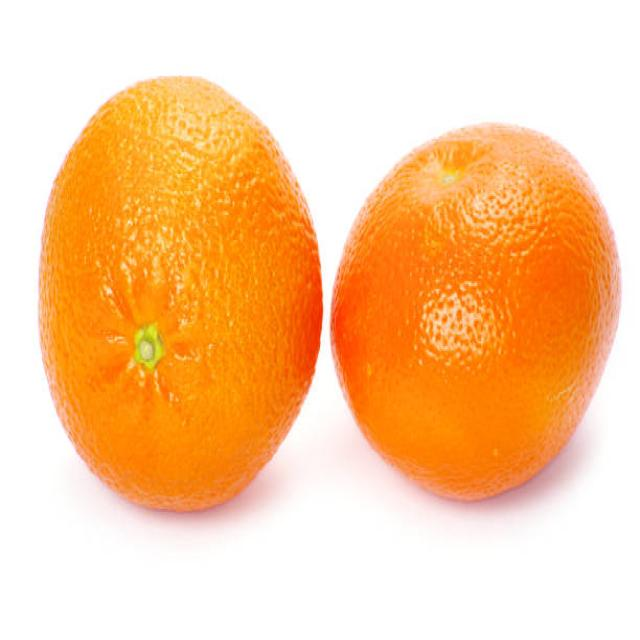Ripe: (36, 68, 325, 520), (332, 121, 626, 508)
